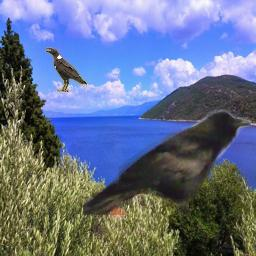Crow: (83, 109, 252, 215), (45, 47, 87, 92)
